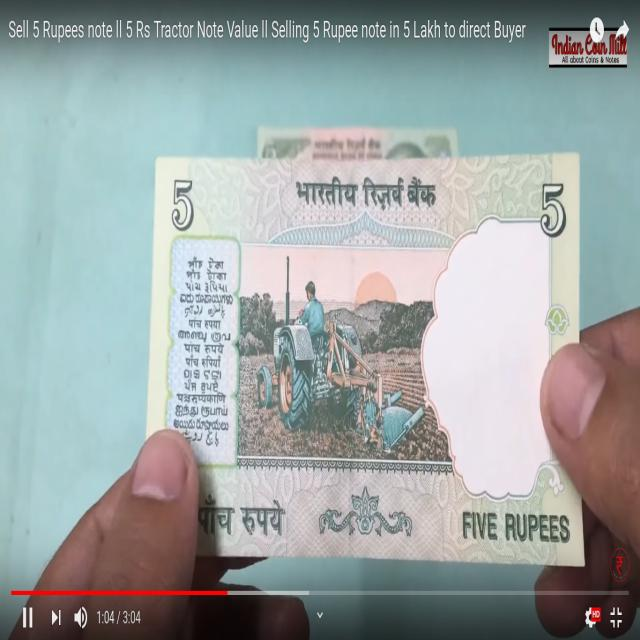5IndianRupees: (154, 155, 582, 548)
